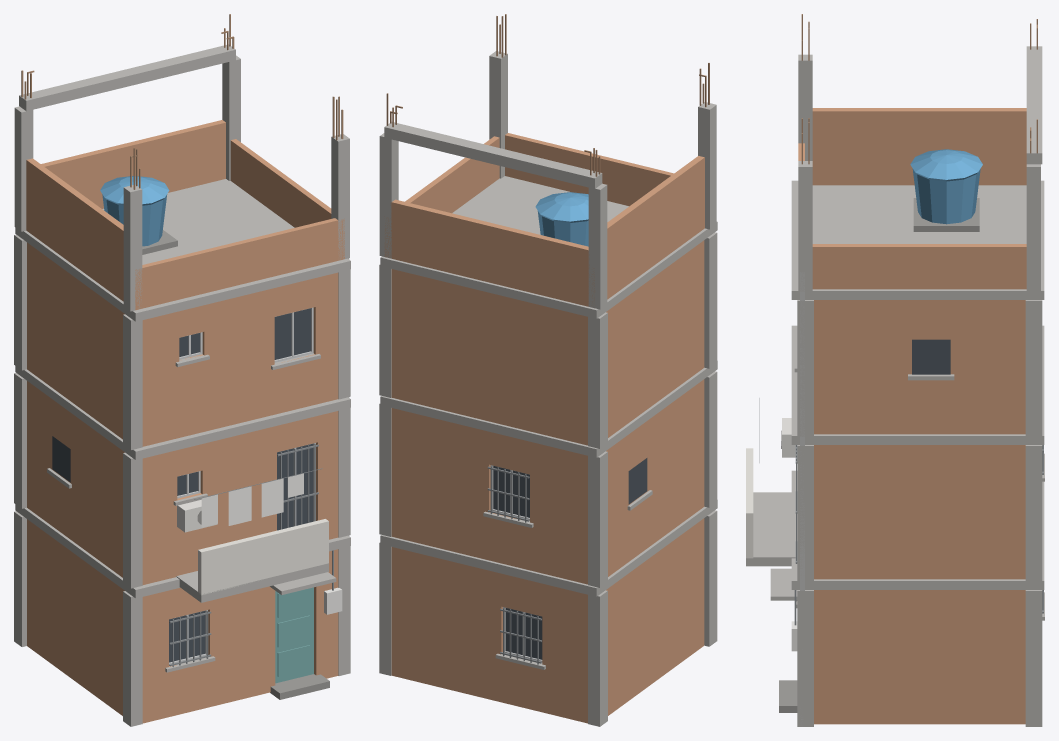
The picture shows the model from 3 angles, left to right: view 1: azimuth 30°, elevation 25°; view 2: azimuth 150°, elevation 25°; view 3: azimuth 270°, elevation 25°; orthographic projection. The views are drawn at different scales.
Visible parts, largest first — view 1: fv_h07; view 2: fv_h07; view 3: fv_h07.
Part boxes in pixels (x1,y1,x2,y2): fv_h07: [14, 14, 350, 726]; fv_h07: [379, 14, 717, 726]; fv_h07: [746, 14, 1044, 726].
Bounding box in the file's own units: 4.82 × 12.11 × 5.42.
